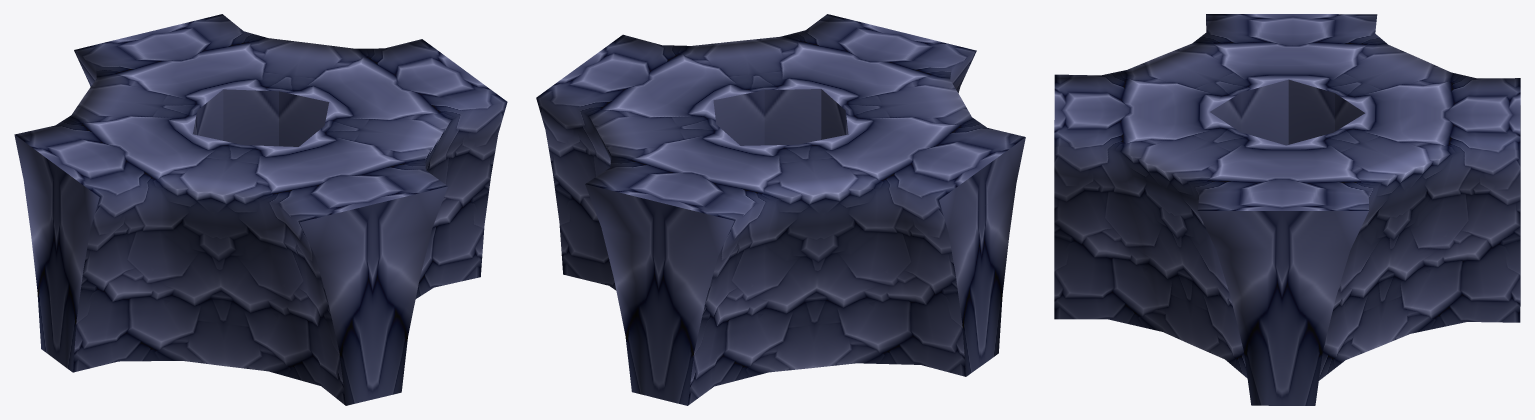
Rendered from Modular_Corner_WallPiece.fbx.
The picture shows the model from 3 angles, left to right: view 1: azimuth 30°, elevation 25°; view 2: azimuth 150°, elevation 25°; view 3: azimuth 270°, elevation 25°; orthographic projection.
Visible parts, largest first — view 1: Modular_Center_Wallpiece7; view 2: Modular_Center_Wallpiece7; view 3: Modular_Center_Wallpiece7.
Part boxes in pixels (x1,y1,x2,y2): Modular_Center_Wallpiece7: (14,14,507,405); Modular_Center_Wallpiece7: (536,14,1025,405); Modular_Center_Wallpiece7: (1054,14,1520,405).
Bounding box in the file's own units: 21.7 × 10 × 21.69.
